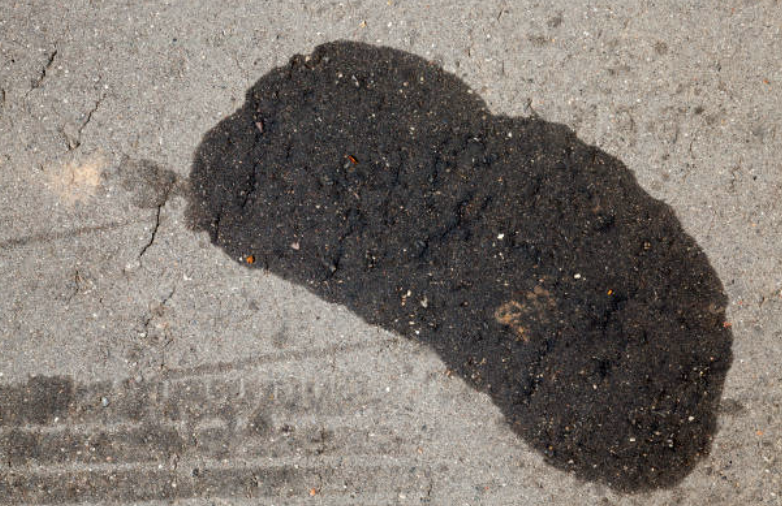oil: (92, 19, 367, 246), (2, 187, 163, 250)
